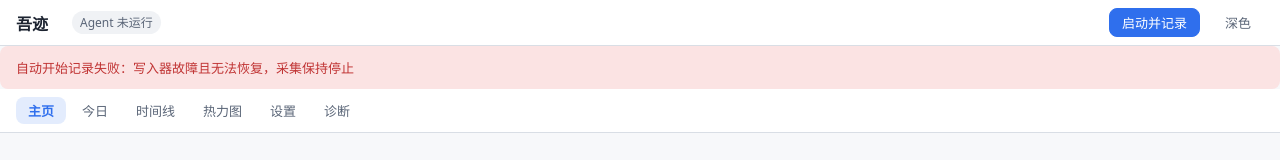
it: AppLayout 顶栏 › 自动启动失败后手动重试成功，红色提示消失
Check: the message shows "自动开始记录失败", box [16,59,133,77]
Click the button "启动并记录" at (1154, 22), box [1109,8,1200,37]
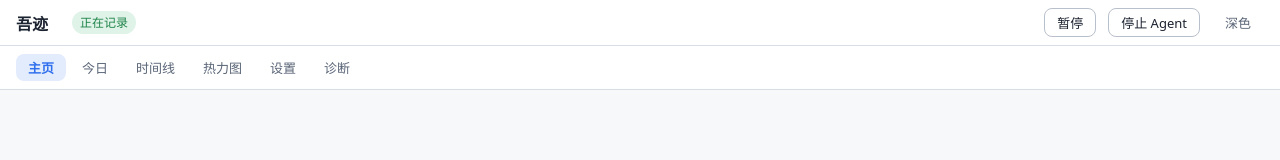
Check: the message "自动开始记录失败：写入器故障且无法恢复，采集保持停止" is gone
Check: the text with test id "capture-state-badge" reads "正在记录", box [80,14,128,31]
